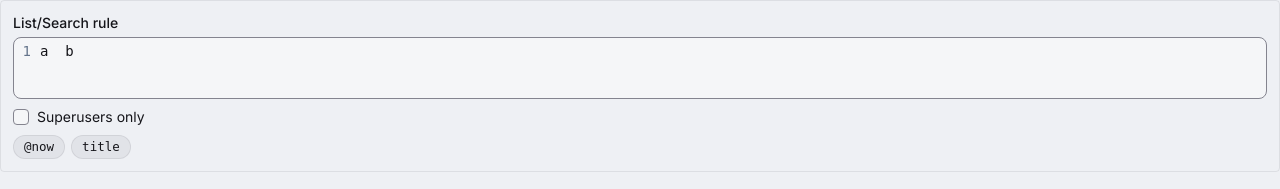
Test case: a chip inserts at the cursor
Click the button "@now": (39, 147) [13,135,65,158]
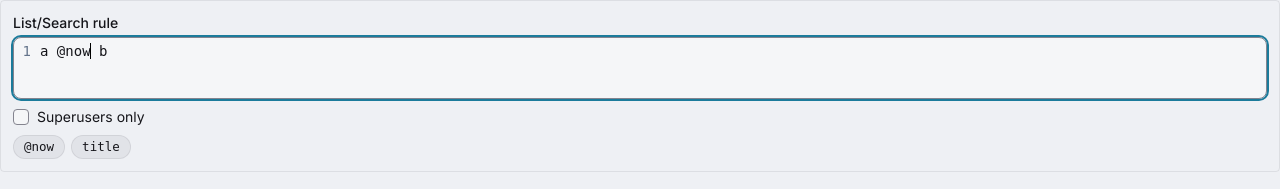
Expected: the text box labelled "a @now b" is shown, [40,43,107,59]
